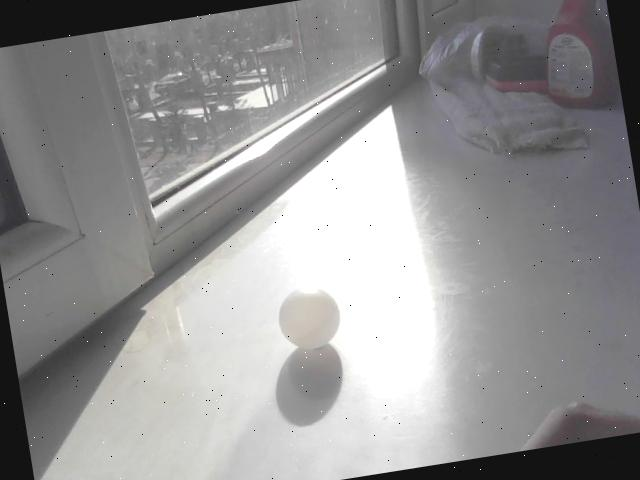ball: (274, 284, 344, 354)
